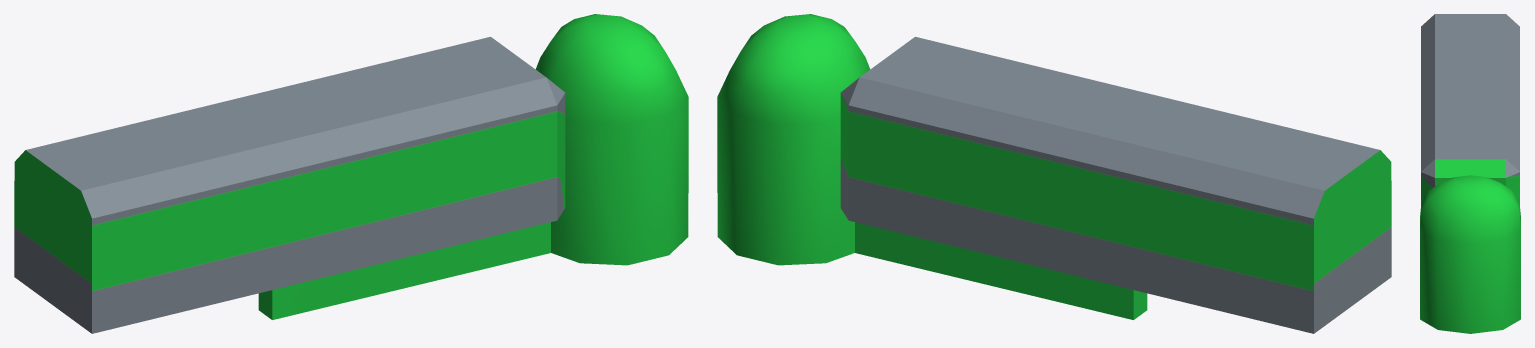
The model's file is Weapon 2.fbx.
3 views of the same model, side by side, from view 1: azimuth 30°, elevation 25°; view 2: azimuth 150°, elevation 25°; view 3: azimuth 270°, elevation 25° (orthographic). The views are drawn at different scales.
Visible parts, largest first — view 1: LauncherPivot, MissileLauncher; view 2: LauncherPivot, MissileLauncher; view 3: LauncherPivot, MissileLauncher.
Part boxes in pixels (x1,y1,x2,y2): LauncherPivot: (14,36,565,333); MissileLauncher: (258,14,688,319); LauncherPivot: (840,36,1391,333); MissileLauncher: (717,14,1147,319); LauncherPivot: (1421,14,1519,205); MissileLauncher: (1420,175,1520,333).
Bounding box in the file's own units: 145 × 31.92 × 46.04.
Materials: 1 (1 with a texture image).
